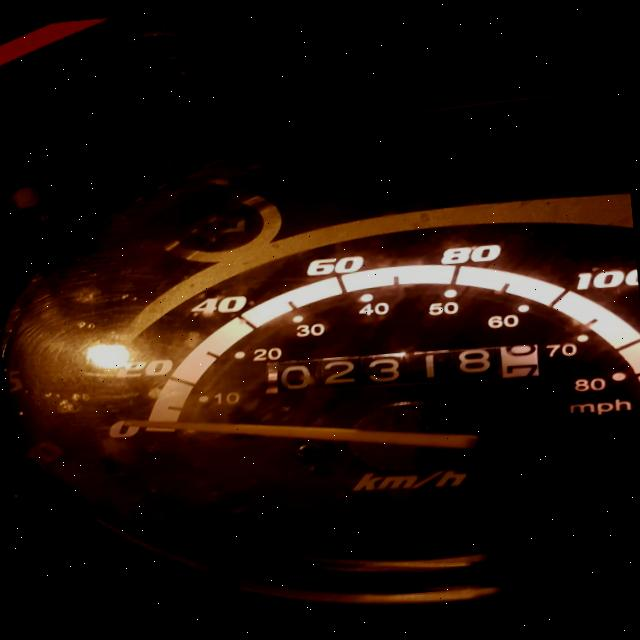odometer: (256, 336, 552, 404)
